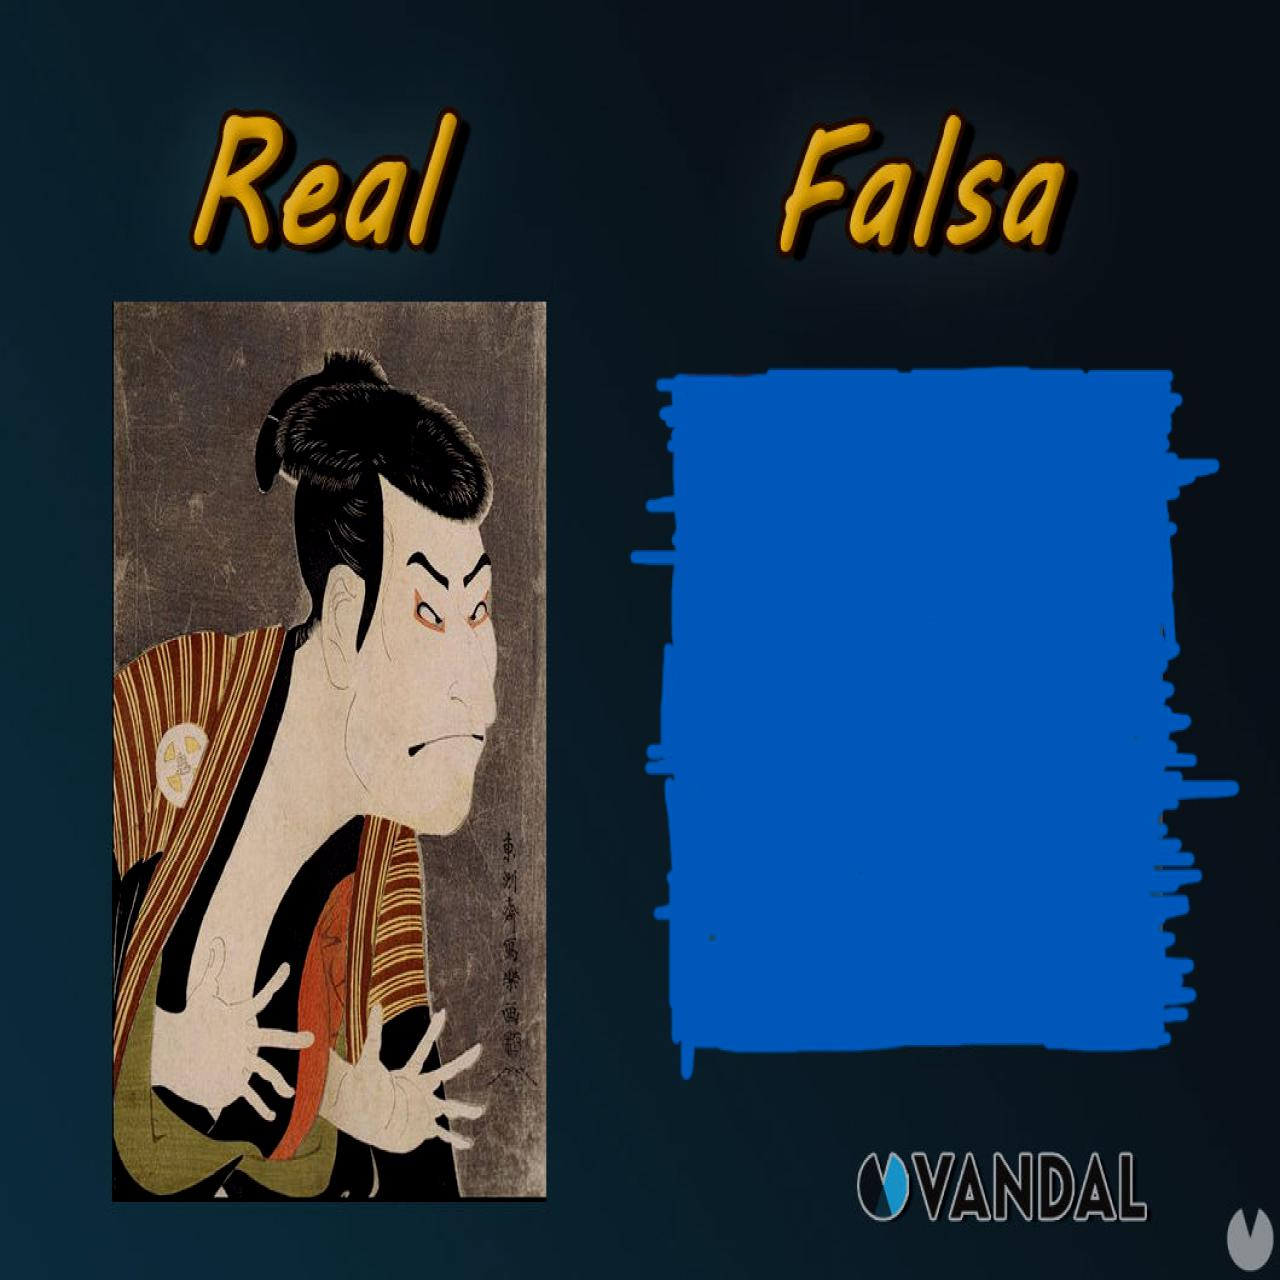OotaniOniji: (117, 299, 550, 1203)
